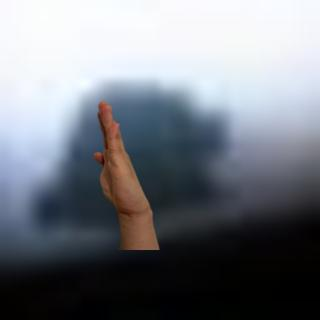RIGHT: (85, 94, 153, 215)
